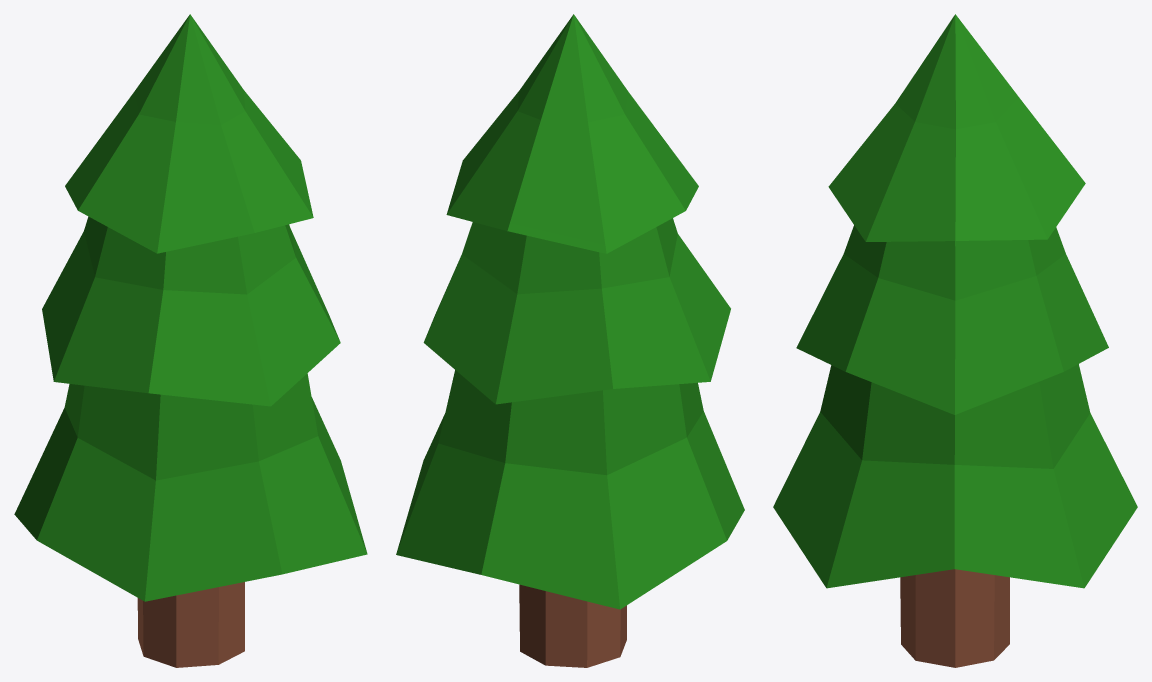
Rendered from summer_tree1.glb.
3 views of the same model, side by side, from view 1: azimuth 30°, elevation 25°; view 2: azimuth 150°, elevation 25°; view 3: azimuth 270°, elevation 25° (orthographic).
Parts seen in each view (by area): view 1: Tree_01_summer; view 2: Tree_01_summer; view 3: Tree_01_summer.
Boxes of the visible parts, x1,y1,x2,y2 form: Tree_01_summer: (14,14,367,667); Tree_01_summer: (396,14,744,667); Tree_01_summer: (773,14,1137,667).
Size of the model in its own units: 0.8322 by 1.65 by 0.8678.
Materials: 1 (1 with a texture image).
